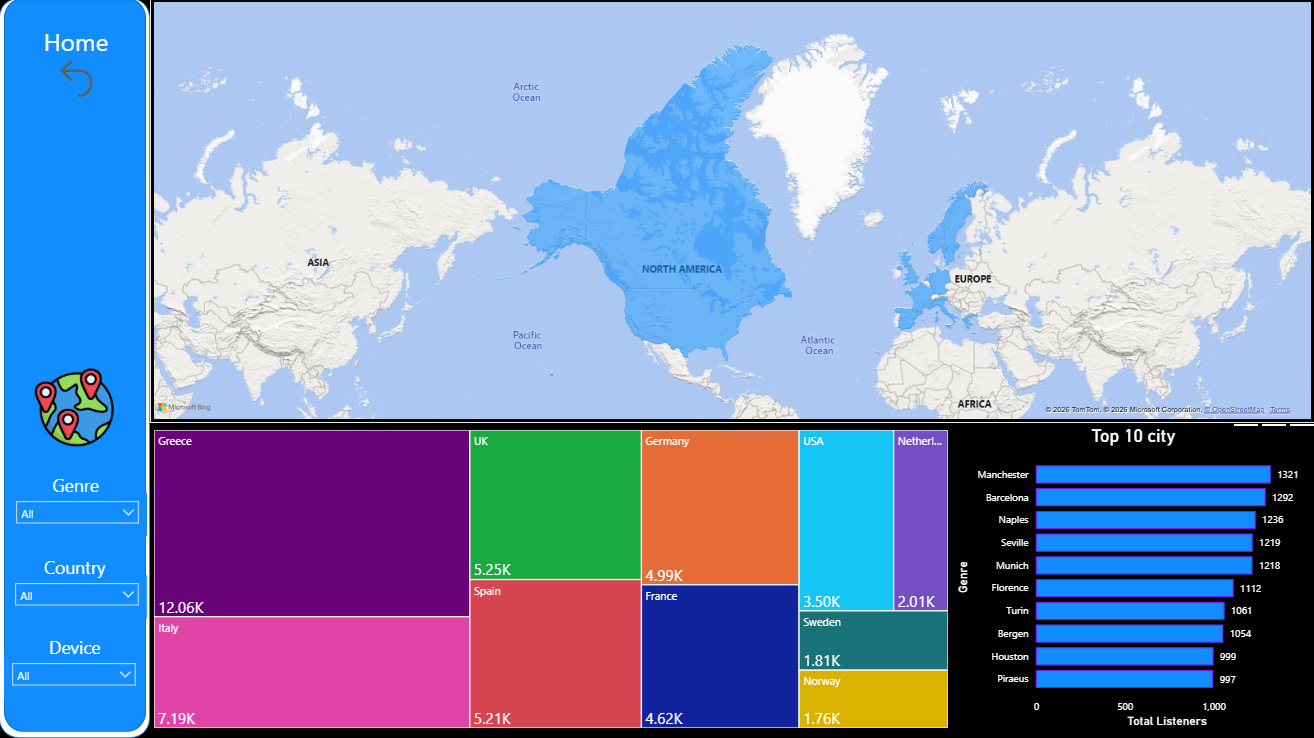

Layout of this report page (visuals, bound fields, positions):
{"tool":"powerbi","page":{"name":"Geographic Analytics ","canvas":[1600,900],"ordinal":4},"visuals":[{"type":"shape","box":[0,0,183.6,899.7],"z":0},{"type":"shape","box":[6.1,0,172.6,892.4],"z":1000},{"type":"slicer","fields":{"Values":["dim_geo.country"]},"box":[10,701.3,170.2,52.5],"z":2000},{"type":"slicer","fields":{"Values":["dim_track.genre"]},"box":[10.9,602.1,169.2,51.6],"z":3000},{"type":"slicer","fields":{"Values":["dim_device.device_type"]},"box":[6.1,798.5,170.2,52.5],"z":4000},{"type":"shape","box":[17.8,770.3,147.8,36],"z":5000},{"type":"shape","box":[19.7,573.9,147.8,36],"z":6000},{"type":"shape","box":[17.8,674,147.8,36],"z":7000},{"type":"shape","box":[19.5,32.8,148.3,36.5],"z":8000},{"type":"filledMap","fields":{"Category":["dim_geo.country"],"Y":["CountNonNull(fact_listens.listen_id)"]},"box":[183.6,0,1416.4,516.7],"z":9000},{"type":"treemap","fields":{"Group":["dim_geo.country"],"Values":["CountNonNull(fact_listens.session_id)"]},"box":[183.6,520.4,975.1,372],"z":10000},{"type":"barChart","title":"Top 10 city","fields":{"Category":["dim_geo.city"],"Y":["CountNonNull(fact_listens.listen_id)"]},"box":[1158.7,520.4,441.3,372],"z":11000},{"type":"actionButton","box":[65.7,69.3,99.7,57.1],"z":12000},{"type":"image","box":[36.5,449.8,109.4,96],"z":13000}]}

Visuals, with their boxes in screenshot pixels (x1, y1, x2, y2), scaled from the page's 1600x900 canvas onto the 1314x738 screenshot:
shape: l=0, t=0, r=151, b=737
shape: l=5, t=0, r=147, b=732
slicer - dim_geo.country: l=8, t=575, r=148, b=618
slicer - dim_track.genre: l=9, t=494, r=148, b=536
slicer - dim_device.device_type: l=5, t=655, r=145, b=698
shape: l=15, t=632, r=136, b=661
shape: l=16, t=471, r=138, b=500
shape: l=15, t=553, r=136, b=582
shape: l=16, t=27, r=138, b=57
filledMap - dim_geo.country x CountNonNull(fact_listens.listen_id): l=151, t=0, r=1313, b=424
treemap - dim_geo.country x CountNonNull(fact_listens.session_id): l=151, t=427, r=952, b=732
"Top 10 city" barChart: l=952, t=427, r=1313, b=732
actionButton: l=54, t=57, r=136, b=104
image: l=30, t=369, r=120, b=448
